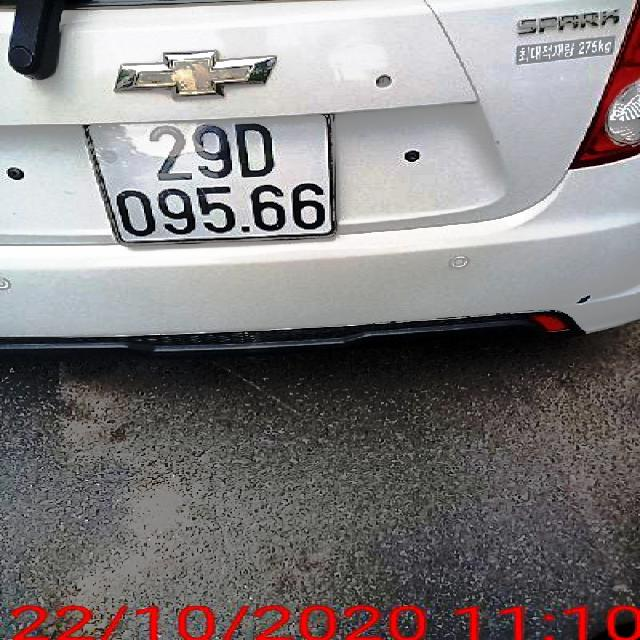license_plate: (88, 119, 337, 244)
